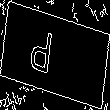P_S: (42, 26, 68, 84)
